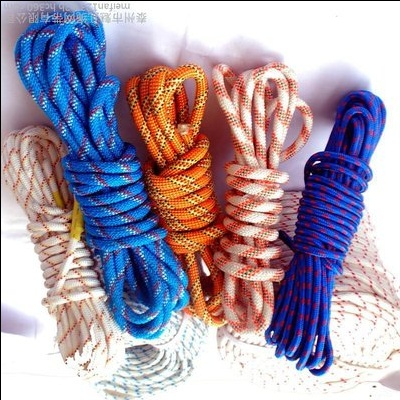9/可回收垃圾/绳子: (11, 7, 189, 340), (265, 89, 388, 377), (1, 125, 126, 382), (212, 61, 313, 338), (126, 64, 227, 327), (279, 188, 400, 391), (91, 313, 207, 400)
